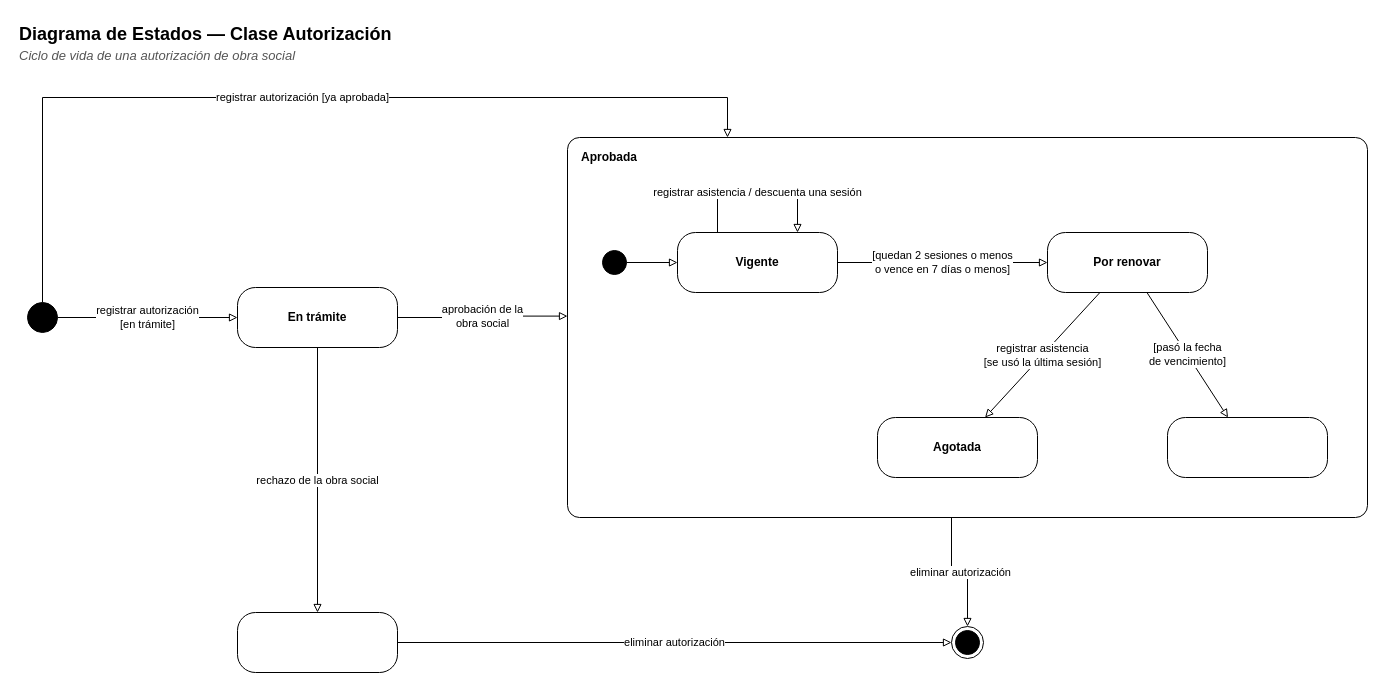
Some shapes in this 1385 by 690 pixel diagram are drawn without their labels. Here are the shapes that lost their labels. From the top down, the centre of each, then its label:
At (x=1247, y=447): "Vencida".
At (x=317, y=642): "Rechazada".
